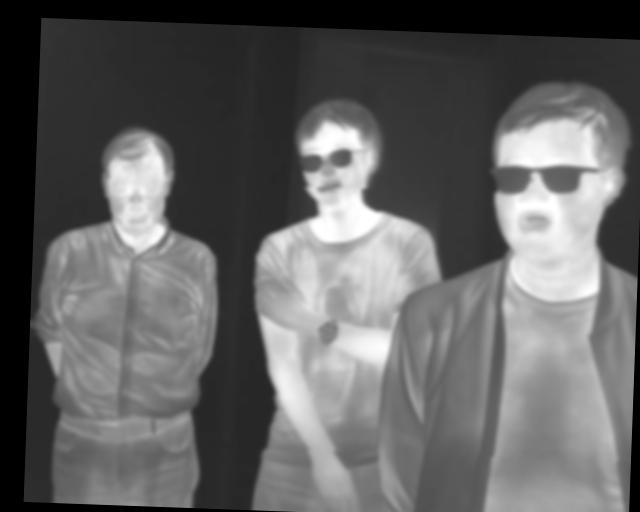face: (482, 75, 631, 268), (291, 93, 384, 210), (98, 126, 177, 236)
